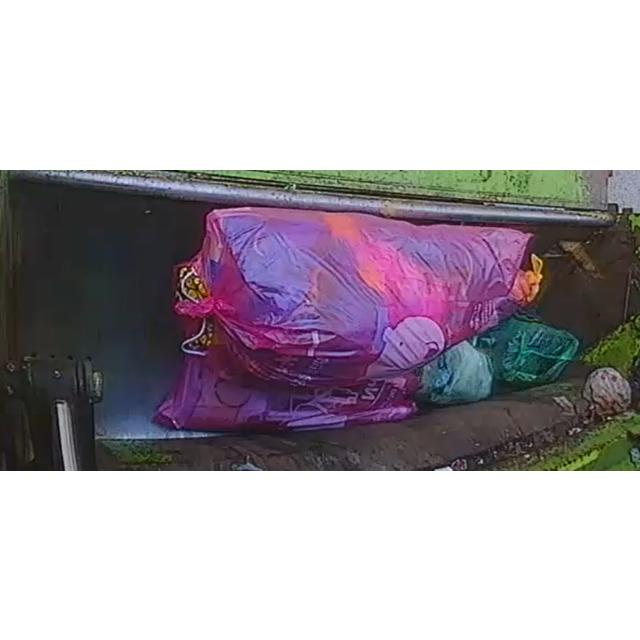general_trashbag: (416, 316, 579, 403), (416, 340, 491, 404)
other_trashbag: (174, 206, 541, 386), (155, 352, 418, 430)
